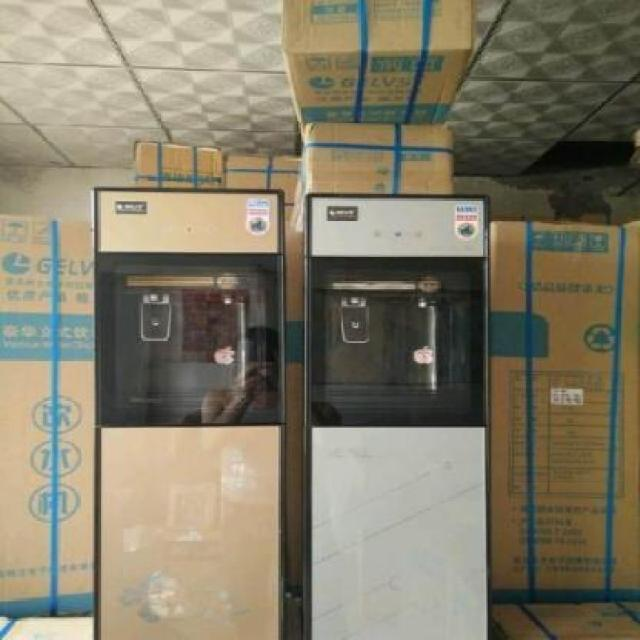cooler: (89, 177, 292, 640), (297, 191, 497, 639)
